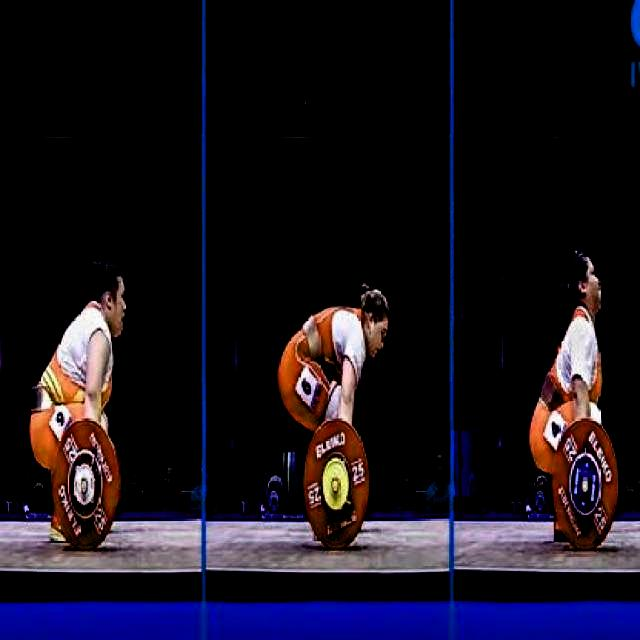barbell: (298, 405, 375, 565), (48, 410, 128, 562), (547, 410, 625, 557)
